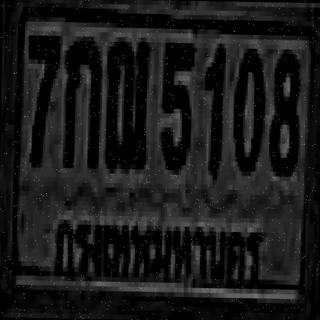A01: (63, 36, 98, 164)
A19: (103, 34, 148, 167)
N00: (232, 44, 263, 171)
N01: (201, 43, 224, 171)
N05: (159, 38, 192, 170)
N07: (24, 31, 58, 163)
N08: (268, 49, 298, 172)
P04: (49, 208, 265, 296)
